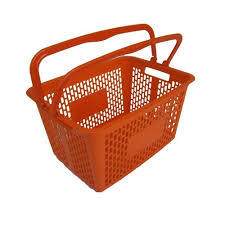with_basket: (25, 23, 191, 190)
